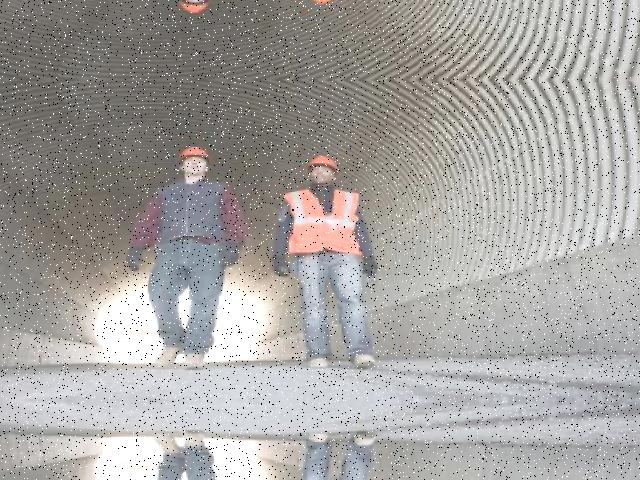Helmet: (308, 151, 346, 175), (178, 142, 217, 164)
